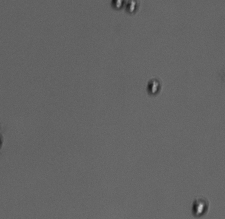Living Cell: (190, 196, 209, 216), (146, 77, 162, 96), (125, 1, 138, 14), (111, 1, 124, 10)
